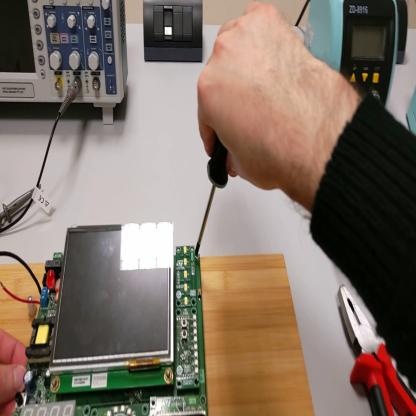hand: (197, 9, 316, 197), (1, 328, 31, 414)
low voltage board: (1, 223, 210, 415)
oscilloscope: (2, 3, 130, 127)
oscilloscope probe tip: (2, 183, 41, 227)
pliers: (337, 286, 416, 415)
screwdriver-: (196, 133, 231, 257)
welder base: (407, 91, 416, 139)
welder station: (308, 2, 399, 110)
working area: (1, 255, 316, 416)
